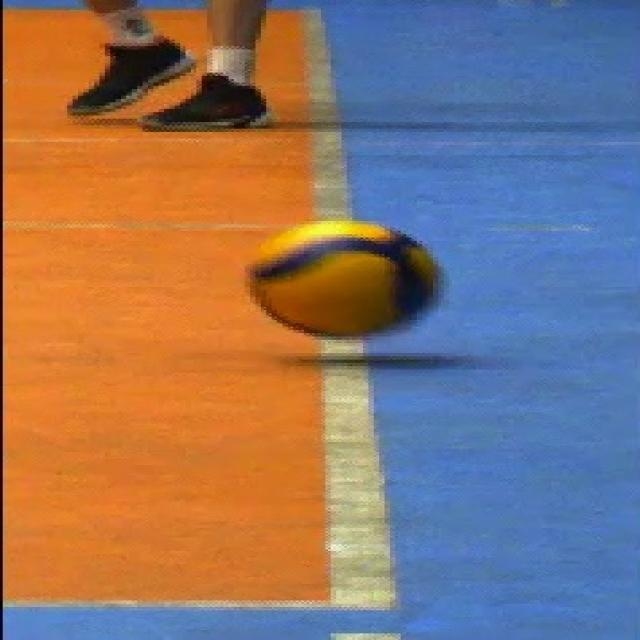Volleyball: (240, 216, 450, 338)
